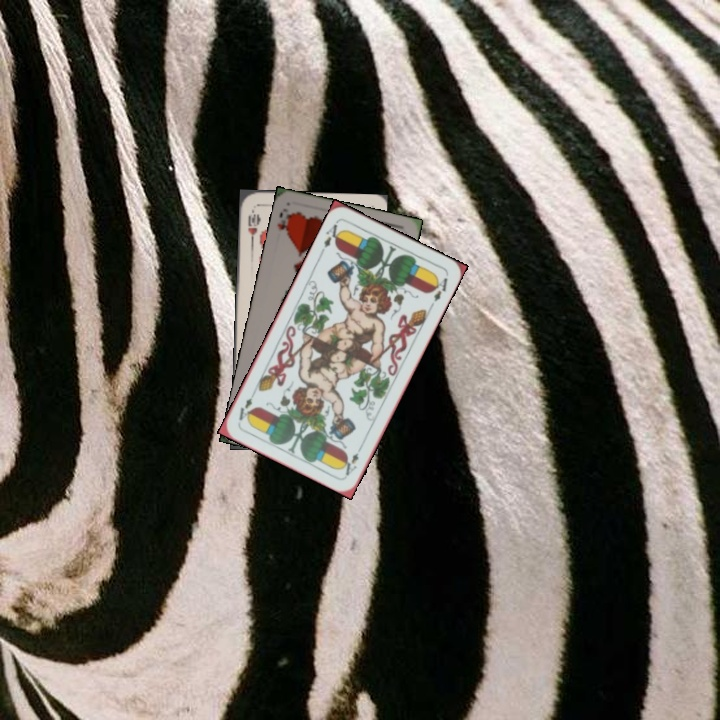EA: (317, 218, 344, 256), (338, 441, 365, 478)
H10: (244, 205, 261, 245)
HO: (273, 204, 295, 237)
